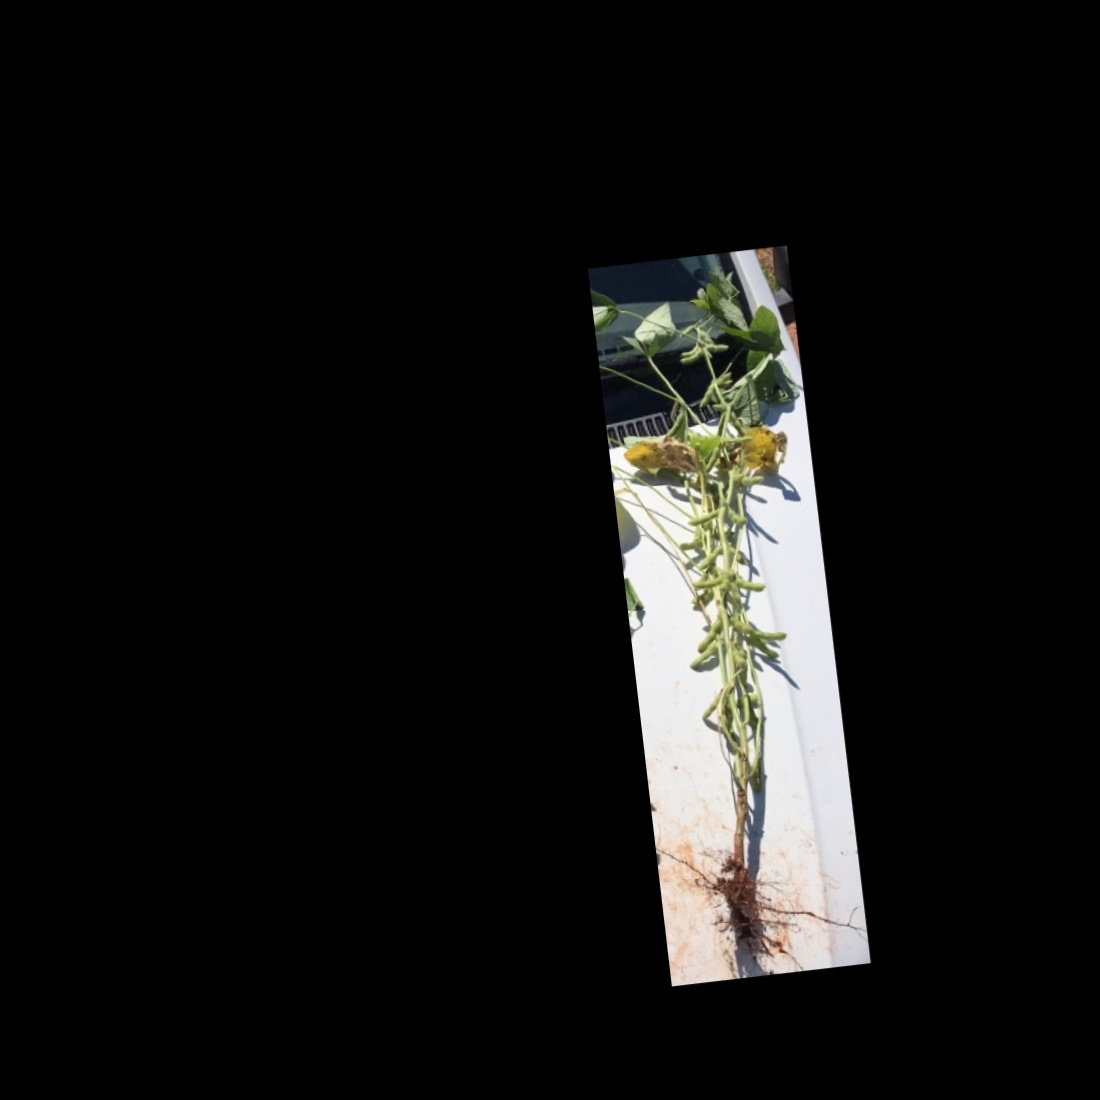pod: (693, 615, 727, 654), (744, 620, 788, 647), (696, 686, 725, 722), (723, 609, 757, 641), (686, 643, 720, 673), (729, 569, 769, 595), (692, 542, 726, 571), (720, 500, 749, 531), (685, 507, 721, 528), (689, 572, 724, 592), (732, 472, 767, 490), (694, 385, 716, 411)
soy: (598, 269, 854, 961)
